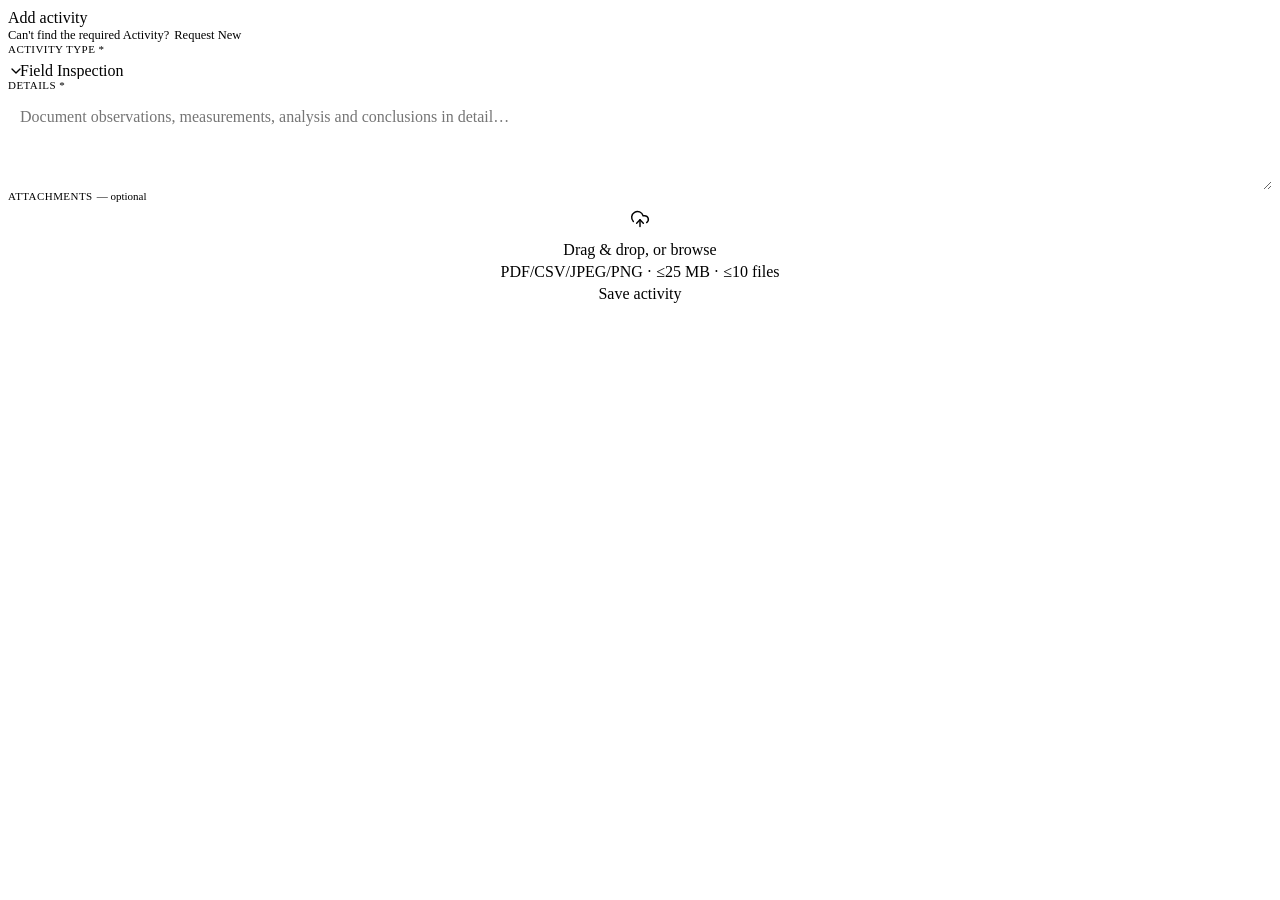
Test: the two add-paths are wired to the right fields › a part added through the modal is auto-selected AND joins the picker
Select "PQ Evaluation" in the dropdown named "Activity type" at (640, 70), box [8,62,1272,79]
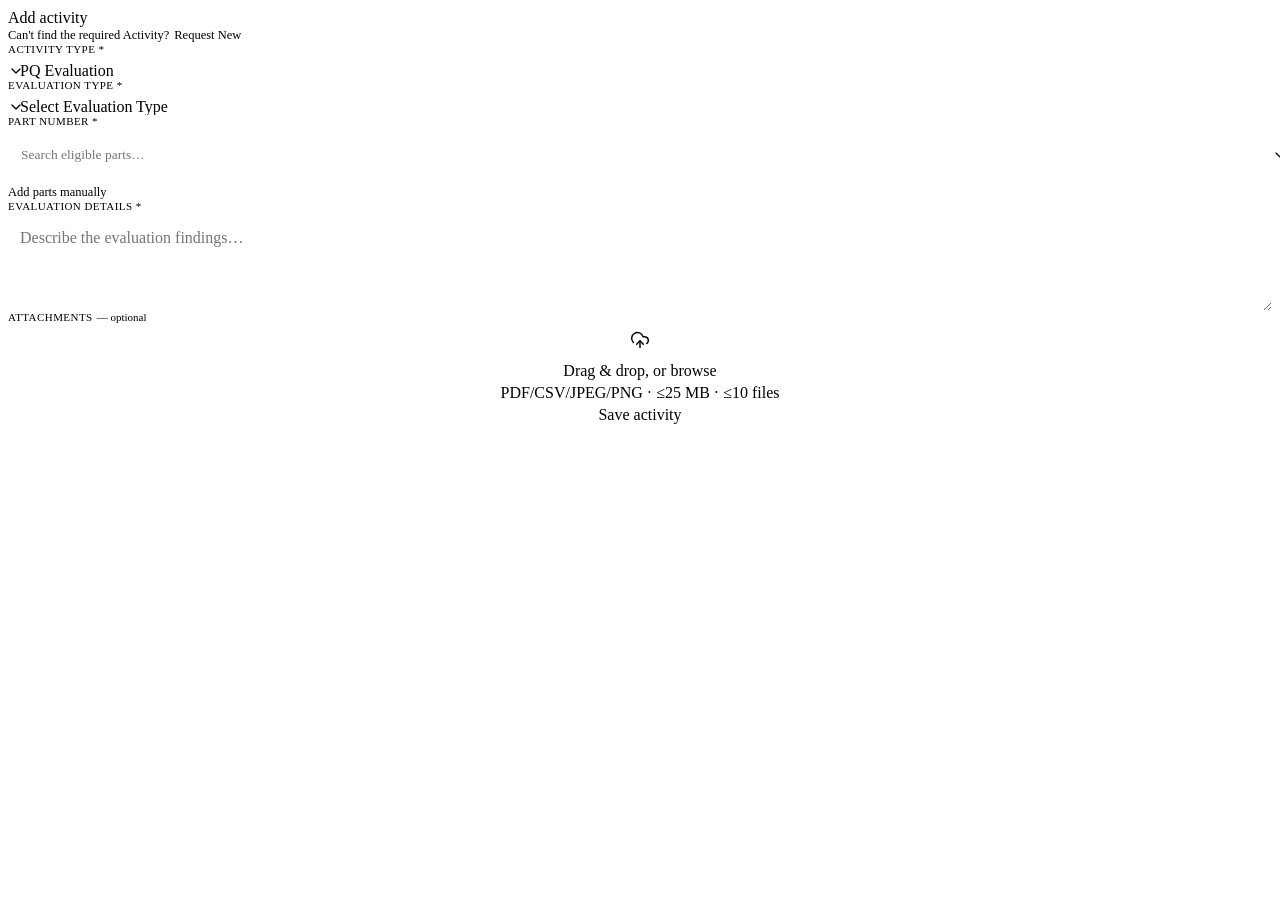
Click the button "Add parts manually" at (57, 192), box [8,185,107,200]
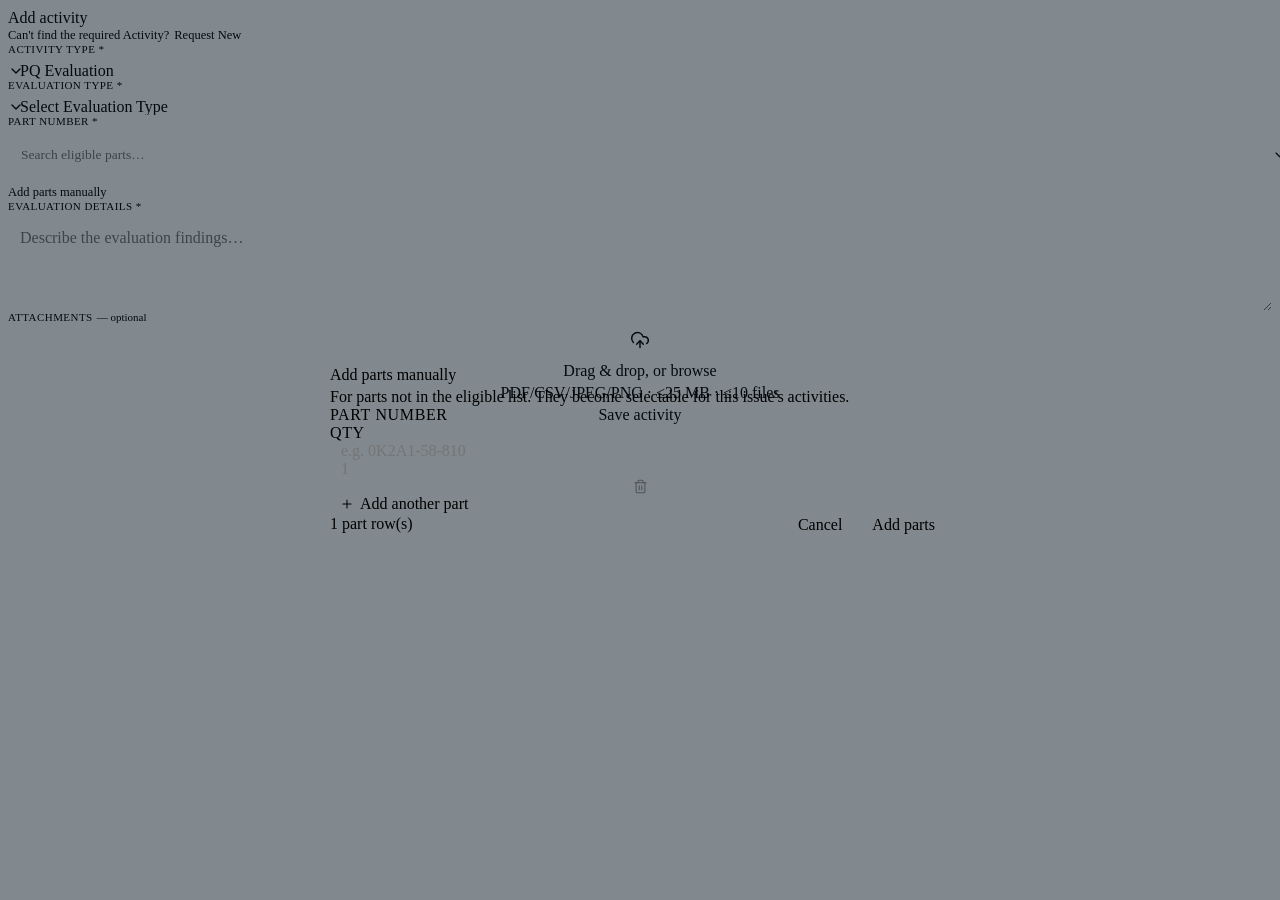
Result: the element with test id "multi-row-draft-modal" is shown at [330,406,950,514]
Type "QQ-777" into the field named "Part number 1" at (640, 450), box [330,442,950,460]
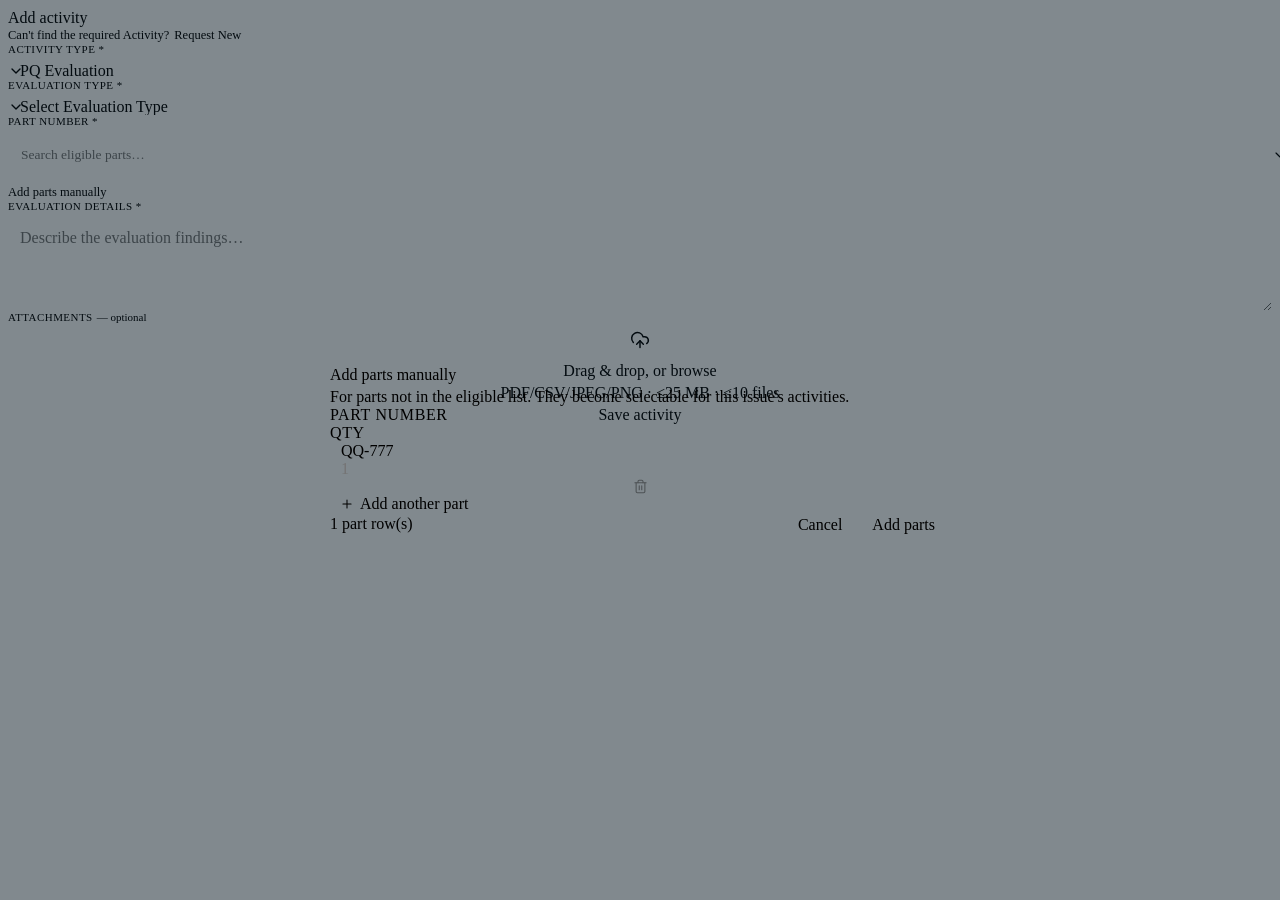
Type "5" into the field named "Qty 1" at (640, 468), box [330,460,950,478]
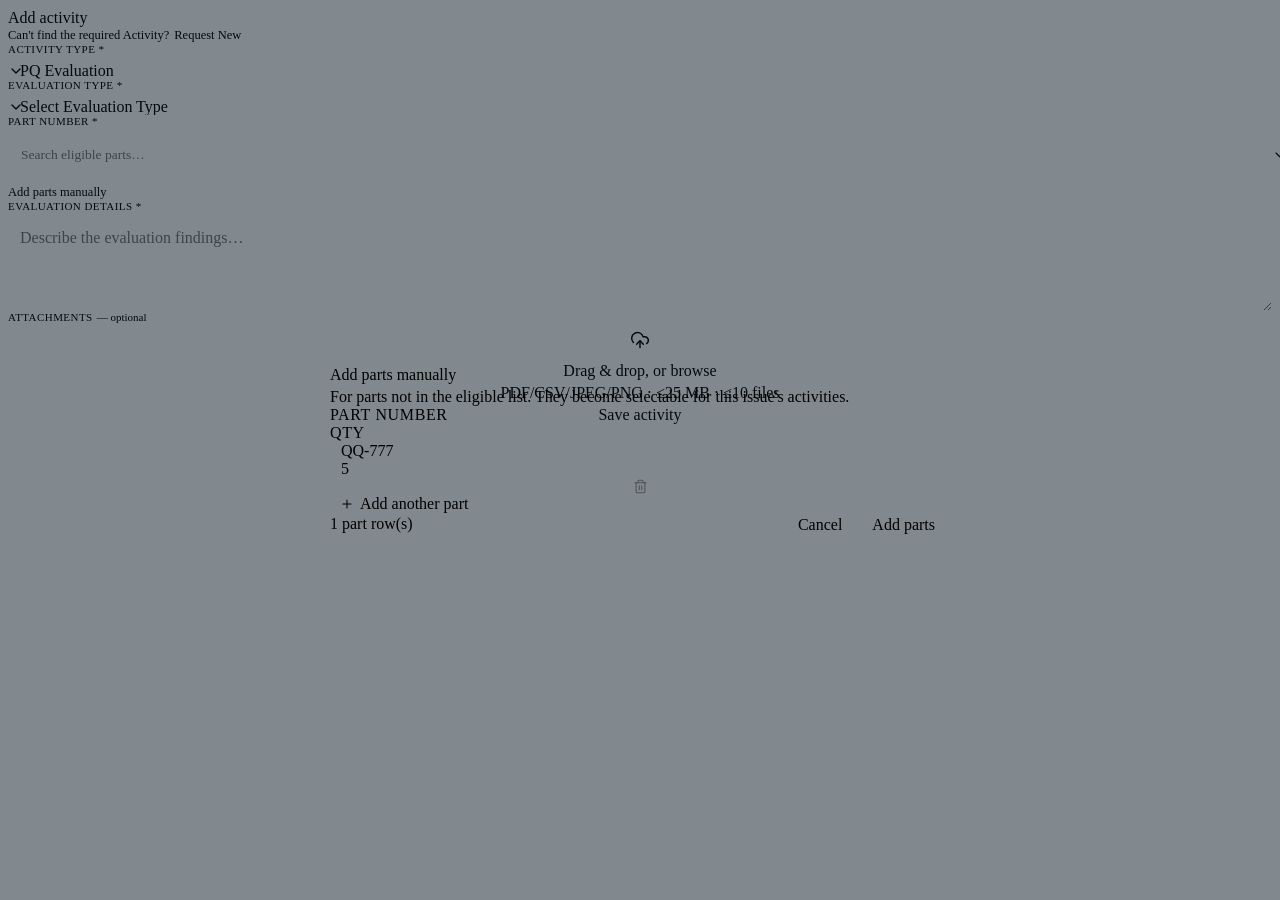
Click the button with test id "multi-row-submit" at (904, 524), box [857,514,950,534]
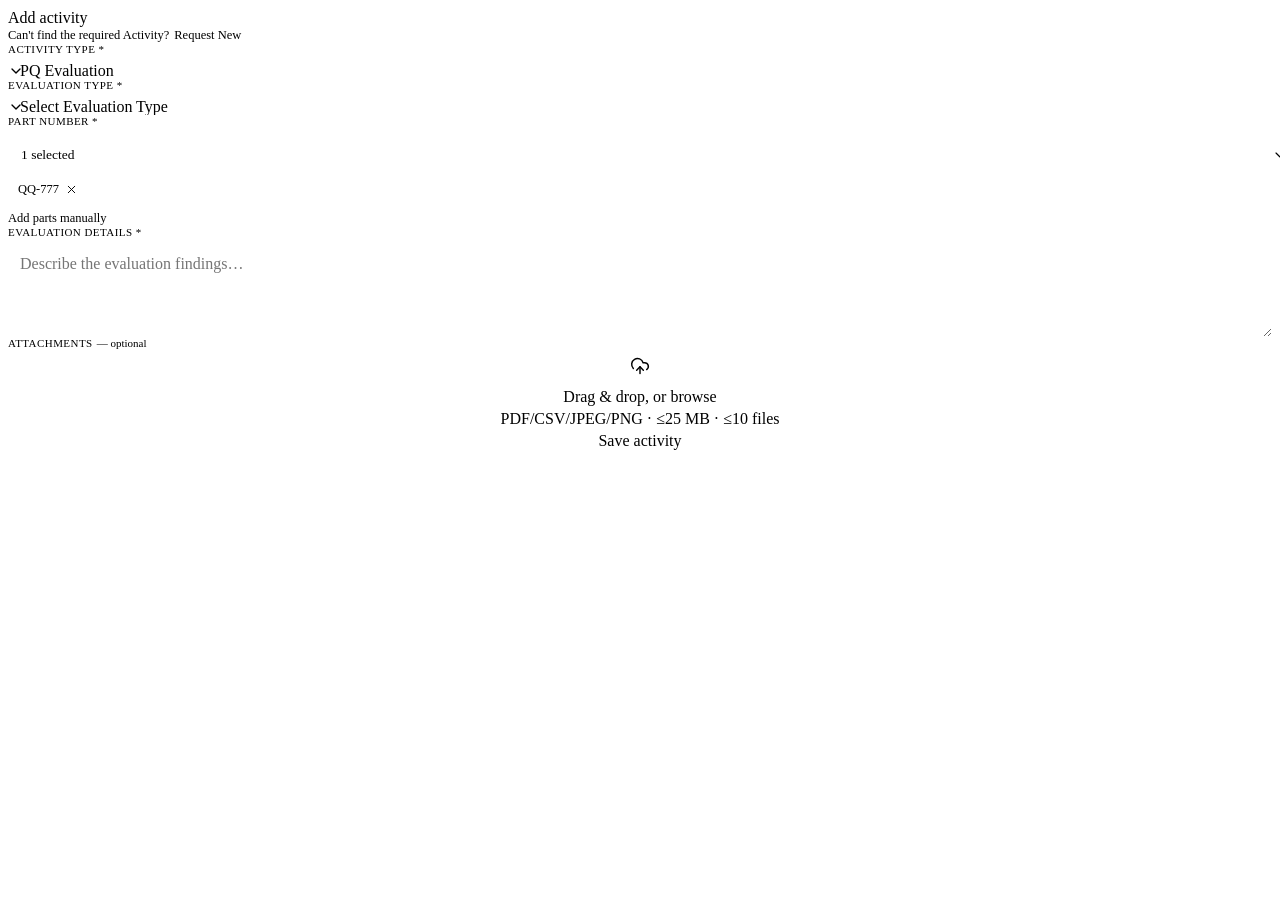
Result: the button named "Remove QQ-777" is shown at [65,182,78,196]
